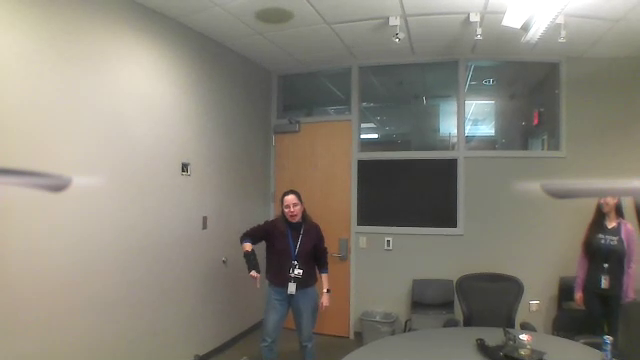down: (245, 265, 265, 289)
